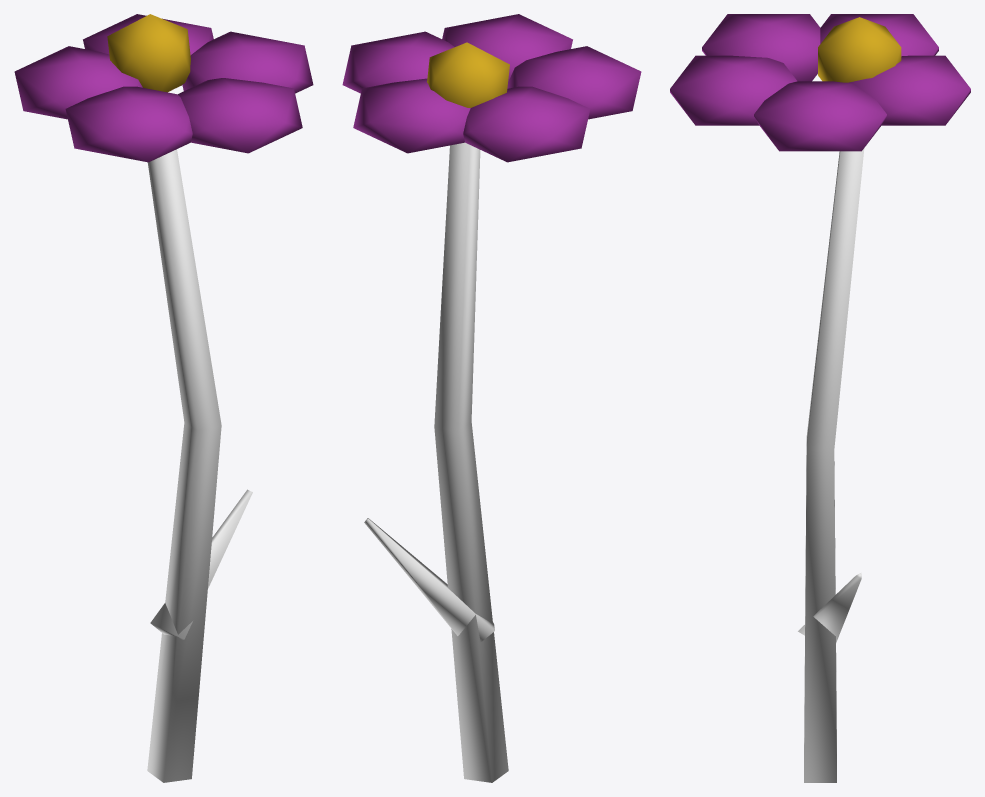
The model's file is strange_plant_1_plant_v0.glb.
3 renders of one model, left to right at view 1: azimuth 30°, elevation 25°; view 2: azimuth 150°, elevation 25°; view 3: azimuth 270°, elevation 25°, orthographic.
Parts seen in each view (by area): view 1: strange_plant_1_plant_v0; view 2: strange_plant_1_plant_v0; view 3: strange_plant_1_plant_v0.
Boxes of the visible parts, x1=… form: strange_plant_1_plant_v0: x1=14, y1=14, x2=313, y2=782; strange_plant_1_plant_v0: x1=342, y1=14, x2=641, y2=782; strange_plant_1_plant_v0: x1=670, y1=14, x2=970, y2=782.
Bounding box in the file's own units: 0.153 × 0.4278 × 0.1536.
